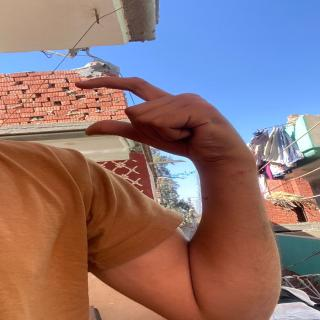DELL: (64, 62, 251, 171)
